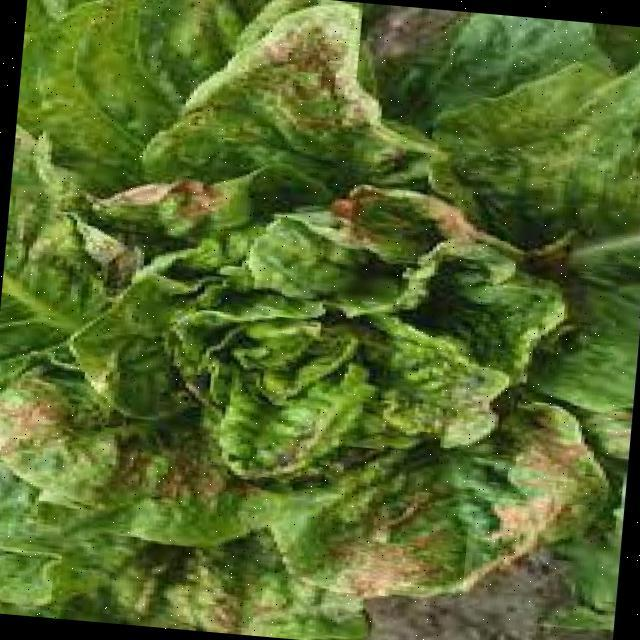Lettuce Mosaic Virus: (0, 5, 634, 597)
